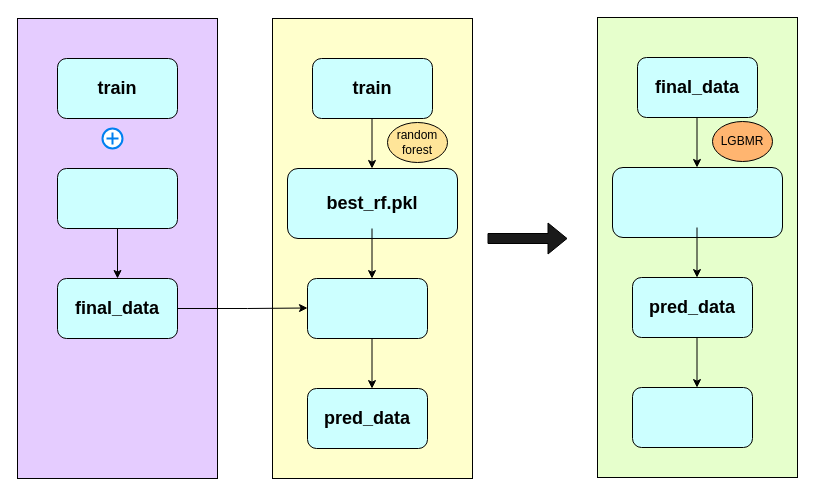
Image size: 815x496. Some labels were removed from this diagram. The centre of each missing label's shape, as x and y in pixels:
loaded_model.pkl: point (697, 202)
result: point (692, 417)
test: point (367, 308)
trans: point (117, 198)
